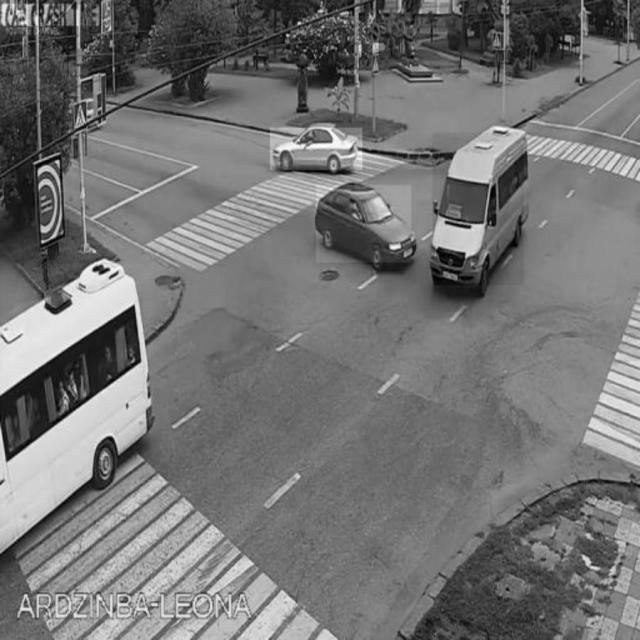vehicle: (2, 264, 154, 527), (433, 133, 524, 285), (317, 186, 411, 263), (270, 128, 362, 170)
